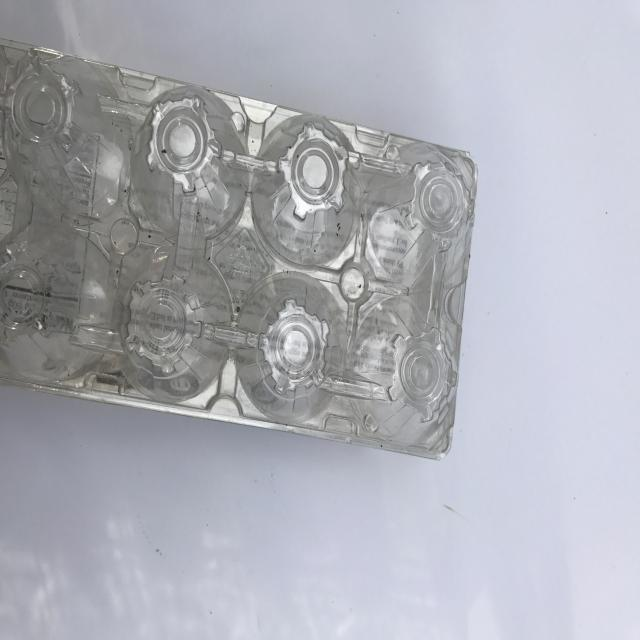plastic: (1, 37, 482, 467)
